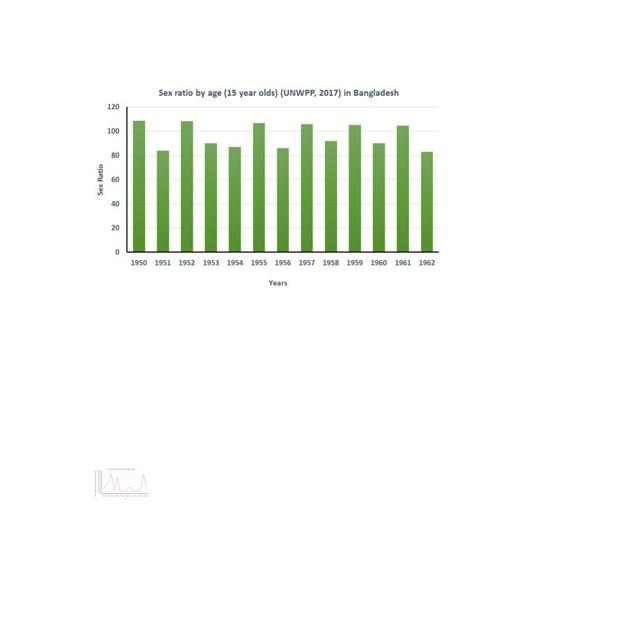Graph: (89, 85, 450, 294), (94, 468, 149, 500)
